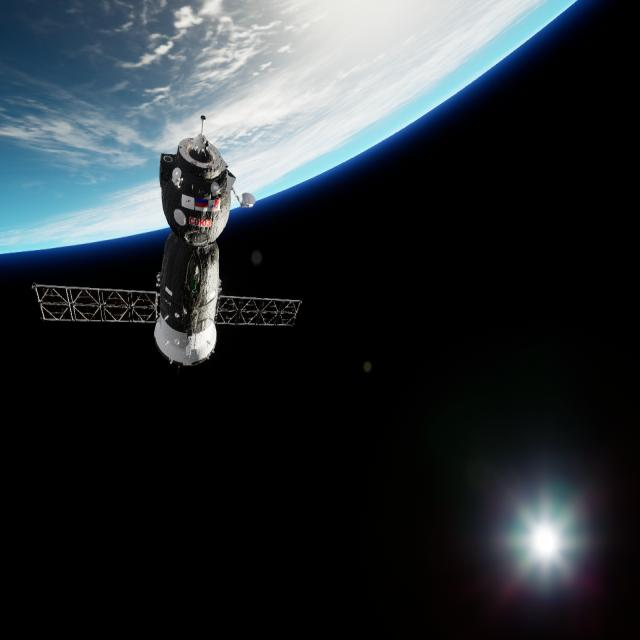Satellites revolving around earth: (150, 113, 252, 369)
